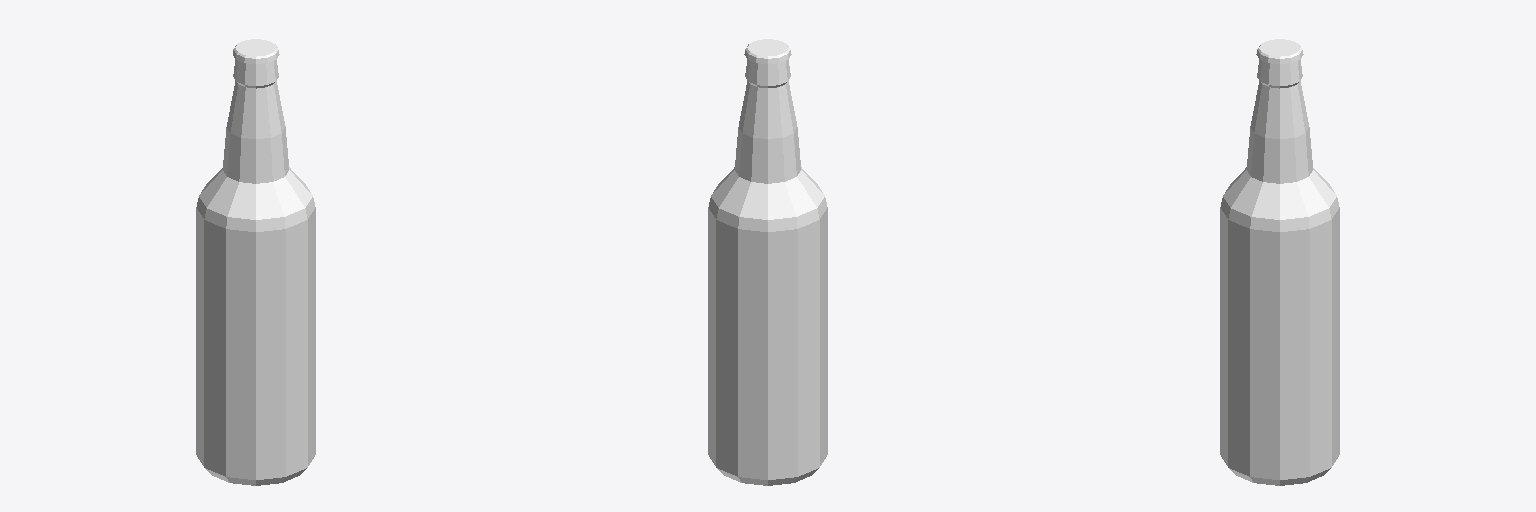
Rendered from beer.obj.
3 renders of one model, left to right at view 1: azimuth 30°, elevation 25°; view 2: azimuth 150°, elevation 25°; view 3: azimuth 270°, elevation 25°, orthographic.
Parts seen in each view (by area): view 1: bottle, cap; view 2: bottle, cap; view 3: bottle, cap.
Part boxes in pixels (x1,y1,x2,y2): bottle: (196,59,315,485); cap: (233,39,279,63); bottle: (708,59,827,485); cap: (744,39,791,63); bottle: (1220,59,1339,485); cap: (1256,39,1303,63).
Bounding box in the file's own units: 4.44 × 17.11 × 4.44.